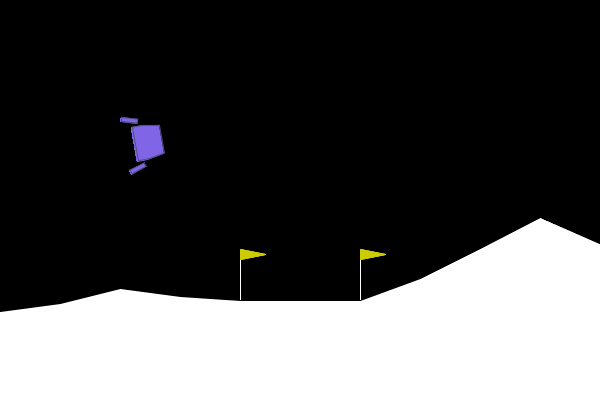lander: (119, 110, 169, 176)
